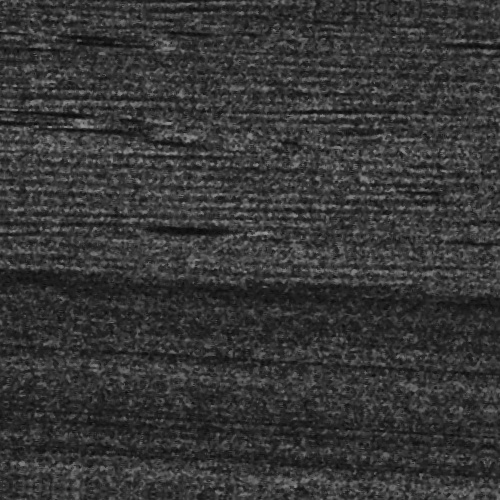object: (25, 123, 88, 138), (219, 226, 272, 235), (106, 133, 169, 138), (100, 120, 153, 125), (132, 33, 143, 50), (208, 144, 219, 151)
shadow: (79, 33, 137, 50), (164, 226, 245, 235), (0, 120, 126, 125), (21, 133, 137, 138), (26, 123, 56, 138), (158, 144, 213, 151), (471, 27, 500, 32)
